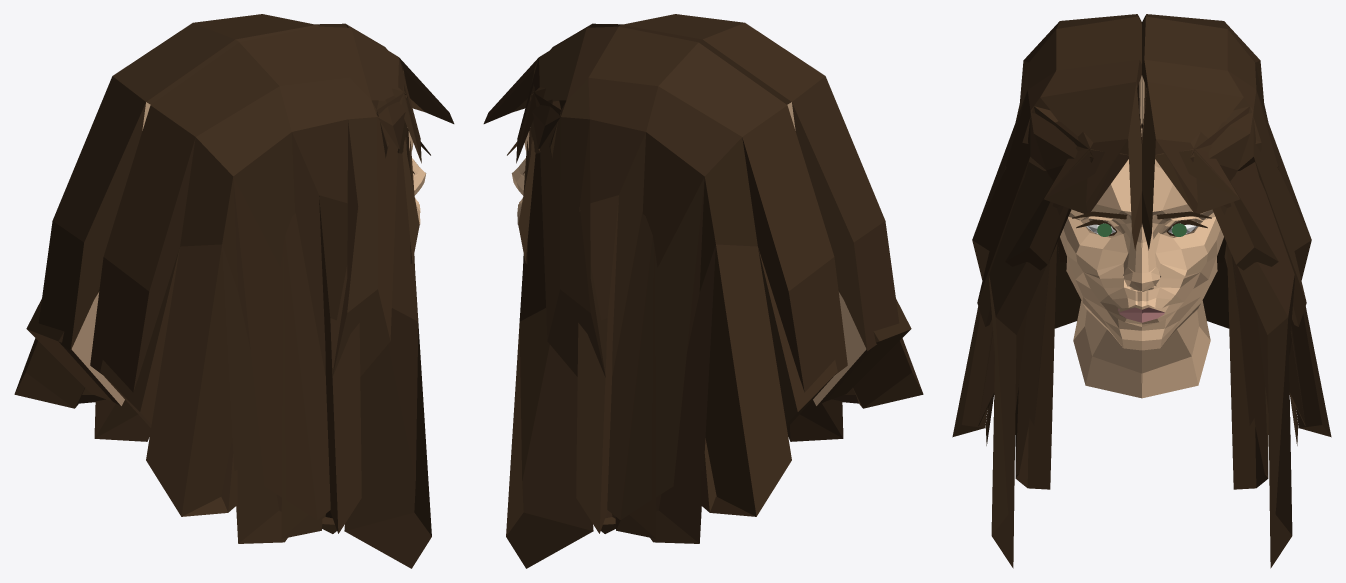
3 views of the same model, side by side, from view 1: azimuth 30°, elevation 25°; view 2: azimuth 150°, elevation 25°; view 3: azimuth 270°, elevation 25° (orthographic).
Parts seen in each view (by area): view 1: Cube; view 2: Cube; view 3: Cube.
Boxes of the visible parts, x1=… form: Cube: x1=14, y1=14, x2=454, y2=568; Cube: x1=483, y1=14, x2=923, y2=568; Cube: x1=952, y1=14, x2=1331, y2=568.
Size of the model in its own units: 2.38 by 3.1 by 2.13.
